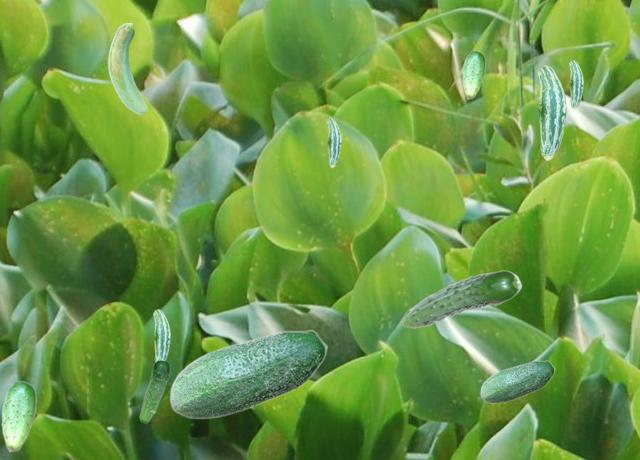cucumber: (169, 329, 327, 418), (402, 270, 521, 327), (108, 23, 146, 113), (480, 360, 554, 402), (537, 65, 565, 159), (1, 380, 35, 451), (139, 360, 169, 422), (462, 50, 484, 98), (153, 309, 169, 360), (569, 60, 582, 108), (327, 118, 340, 166)
